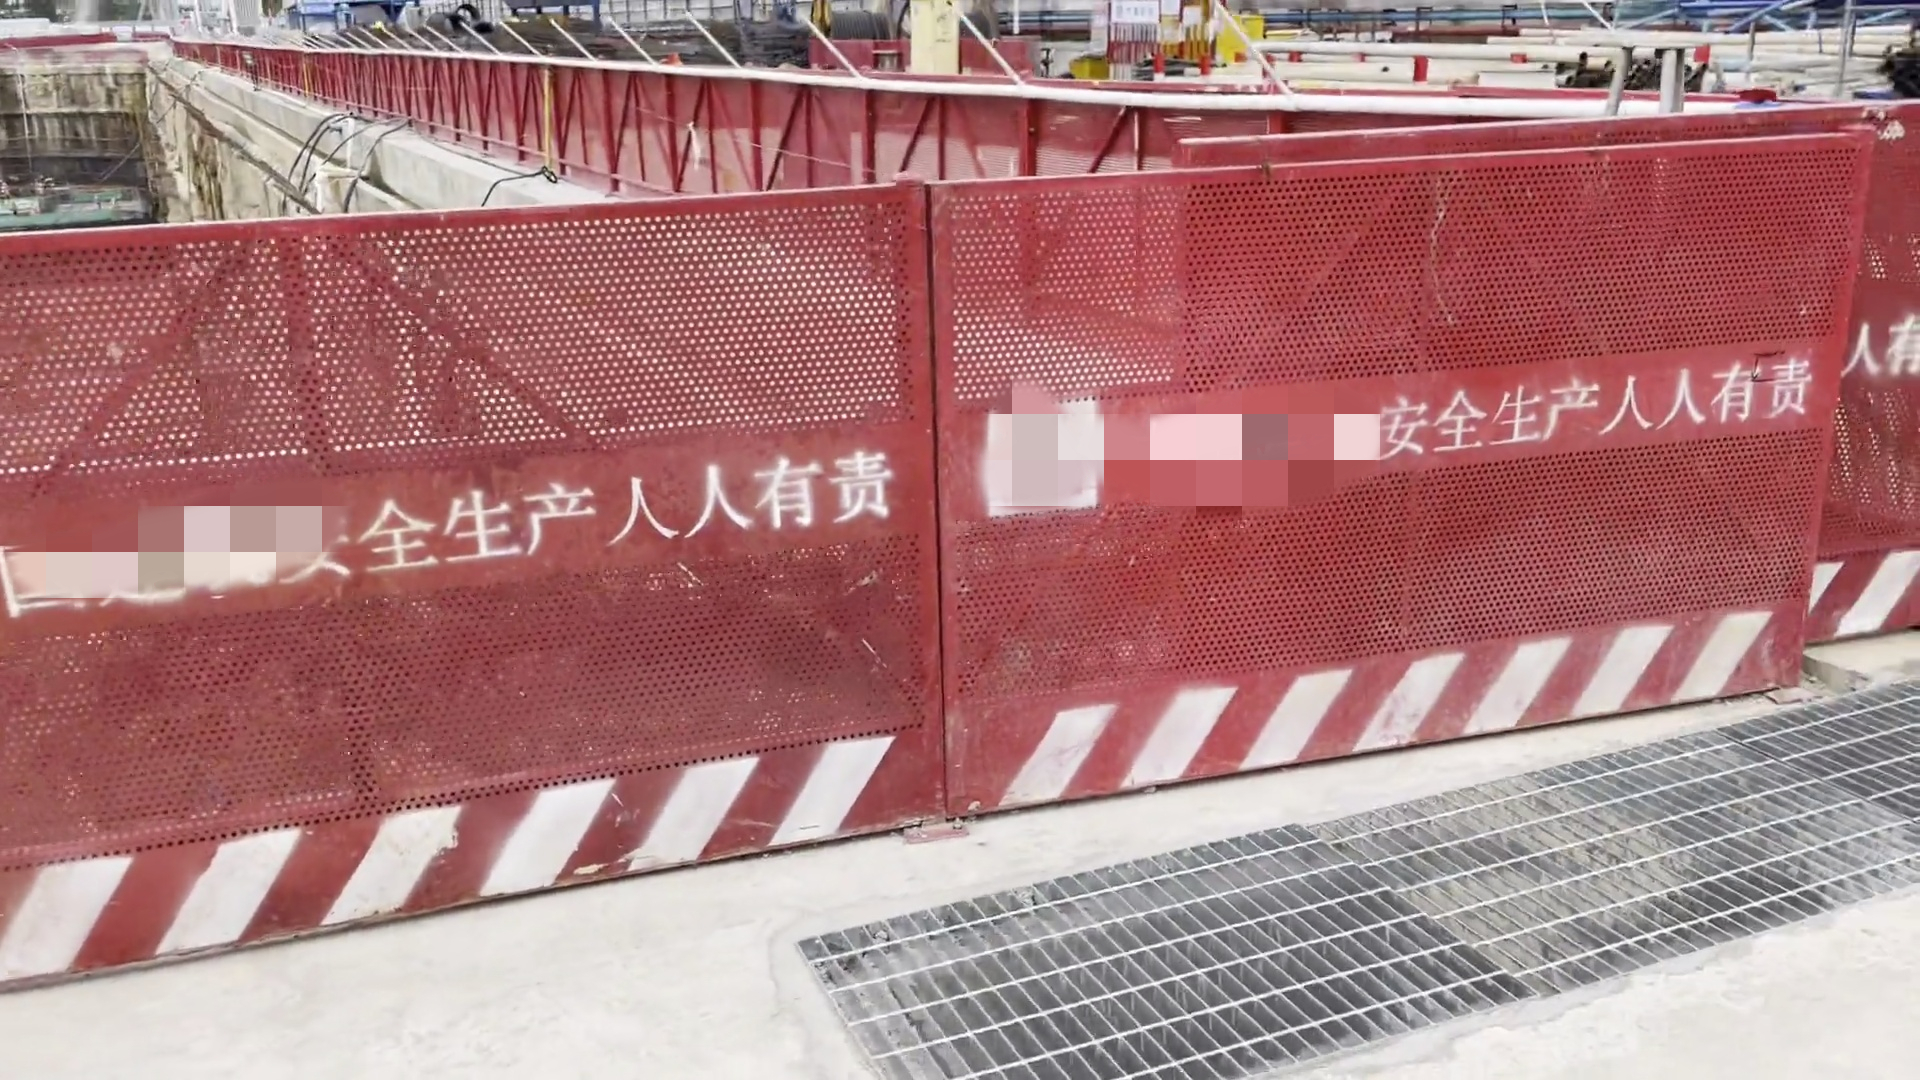ebox: (903, 1, 963, 76), (1143, 3, 1213, 61), (1215, 9, 1265, 66)
fence: (1, 162, 1039, 1005), (1029, 138, 1920, 819), (498, 57, 1481, 253), (258, 41, 533, 160)
